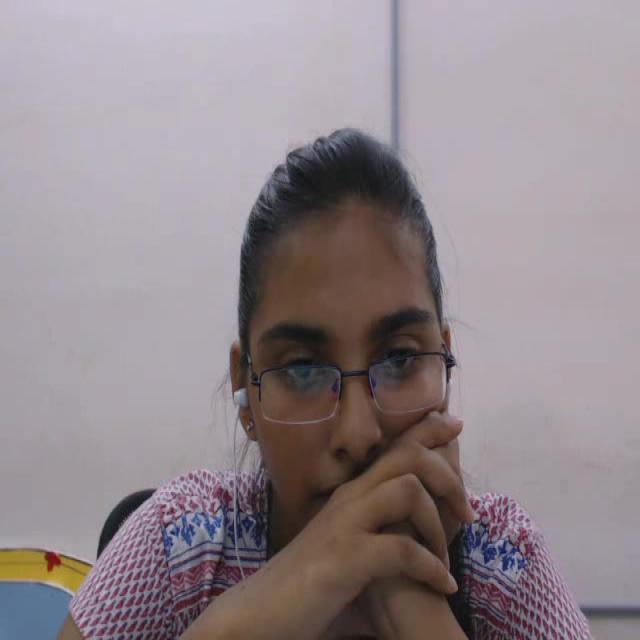Bored: (208, 96, 479, 610)
